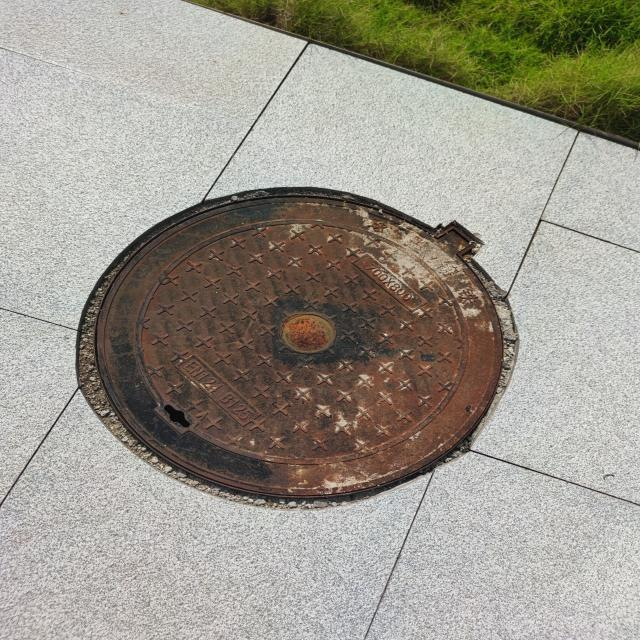Good: (69, 178, 525, 511)
